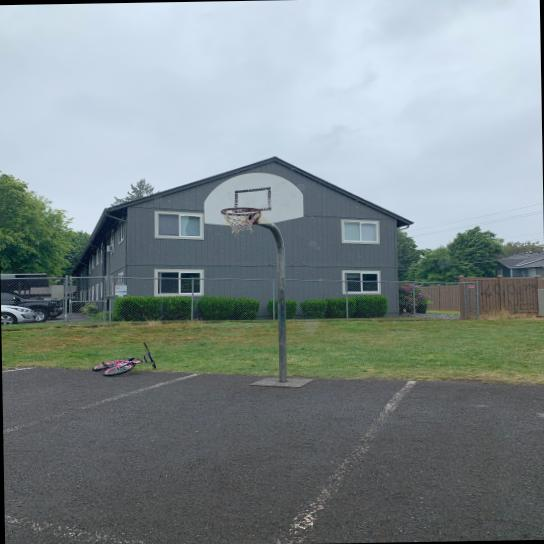basketball-hoop: (218, 206, 262, 236)
